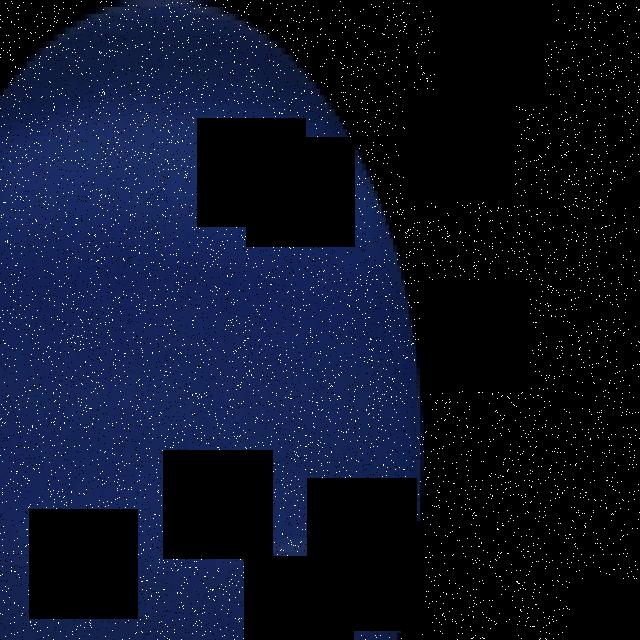Neptune: (0, 0, 424, 640)
